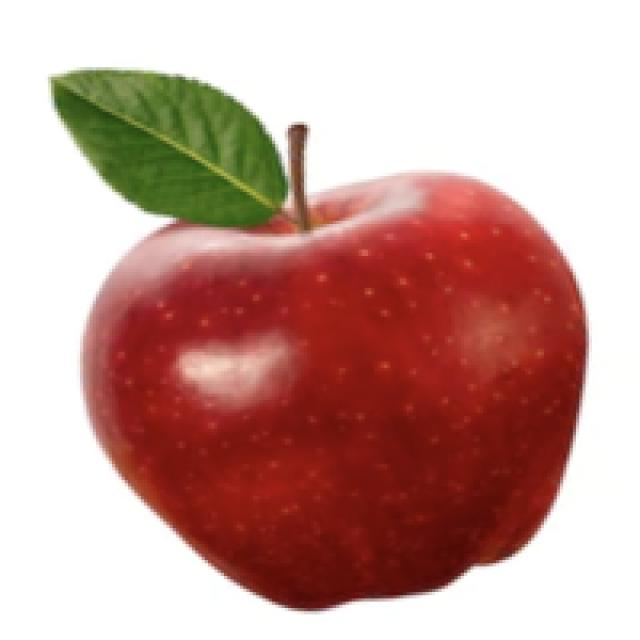apple: (42, 64, 592, 614)
